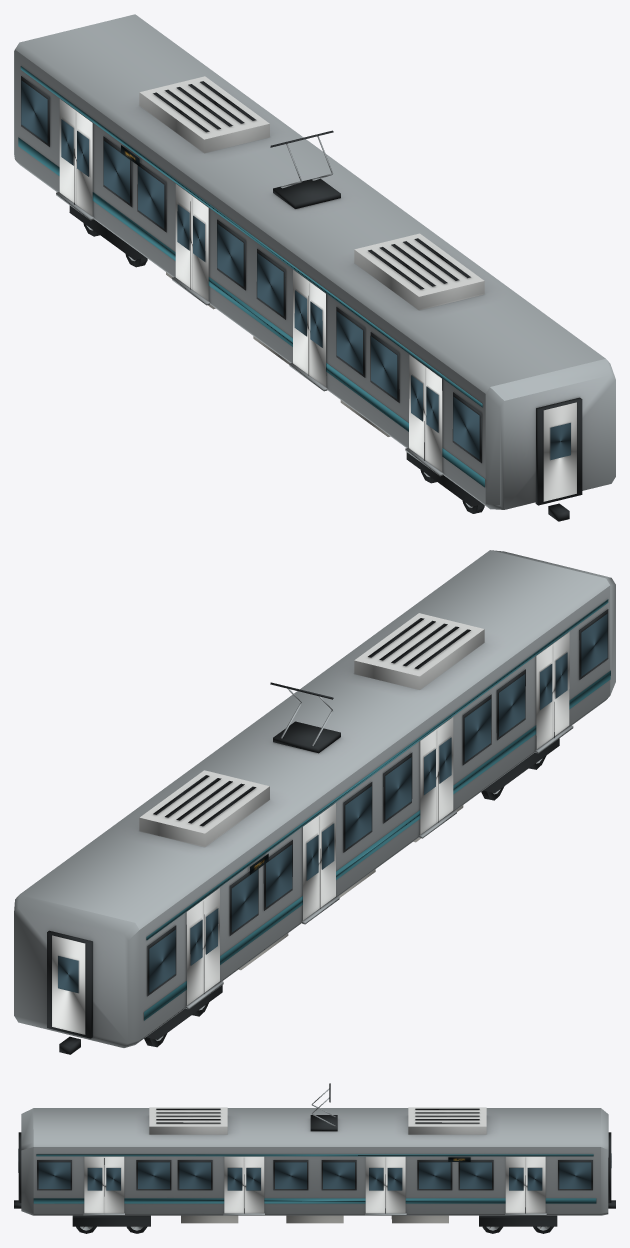
Rendered from urban_trailer.lod1.obj.
3 renders of one model, top to bottom at view 1: azimuth 30°, elevation 25°; view 2: azimuth 150°, elevation 25°; view 3: azimuth 270°, elevation 25°, orthographic. The views are drawn at different scales.
Parts seen in each view (by area): view 1: urban_trailer; view 2: urban_trailer; view 3: urban_trailer.
Part boxes in pixels (bbox=[...]): urban_trailer: bbox=[14, 14, 615, 521]; urban_trailer: bbox=[14, 550, 615, 1054]; urban_trailer: bbox=[14, 1083, 615, 1233].
Bounding box in the file's own units: 3.08 × 4.83 × 20.
Materials: 1 (1 with a texture image).
